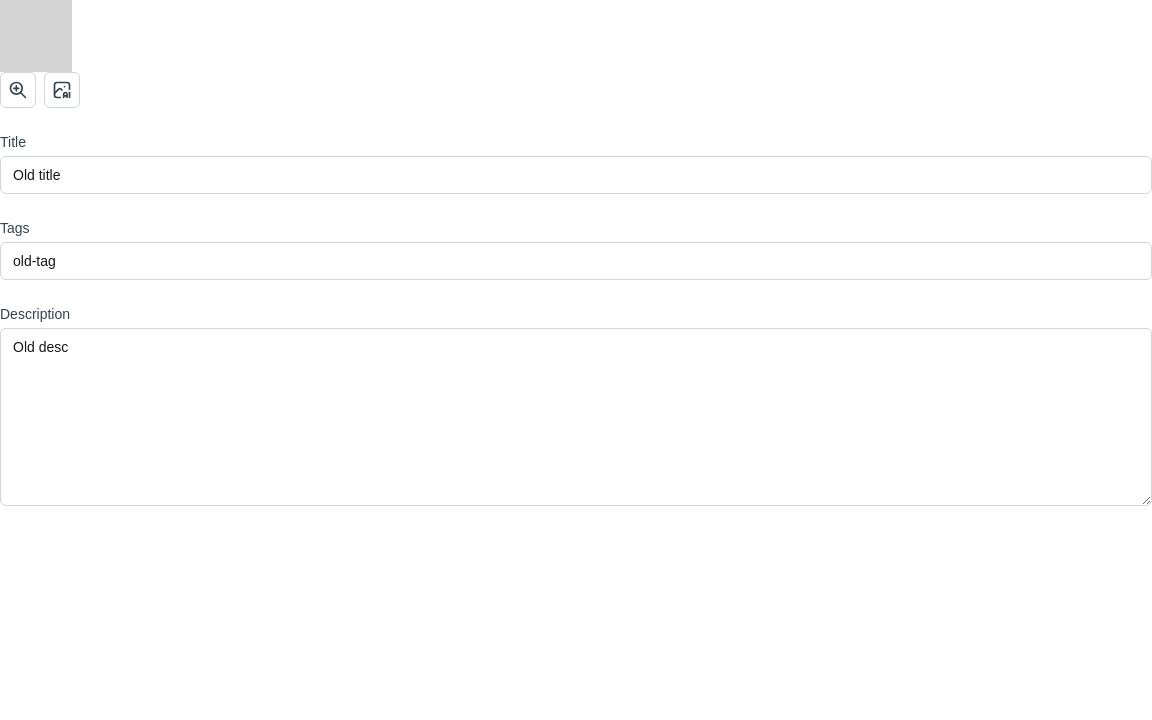
Scenario: ImageAiMetaSection › 识别成功但无 tags 时清空标签框
Click the button named "AI recognize": (62, 90) [44,72,80,108]
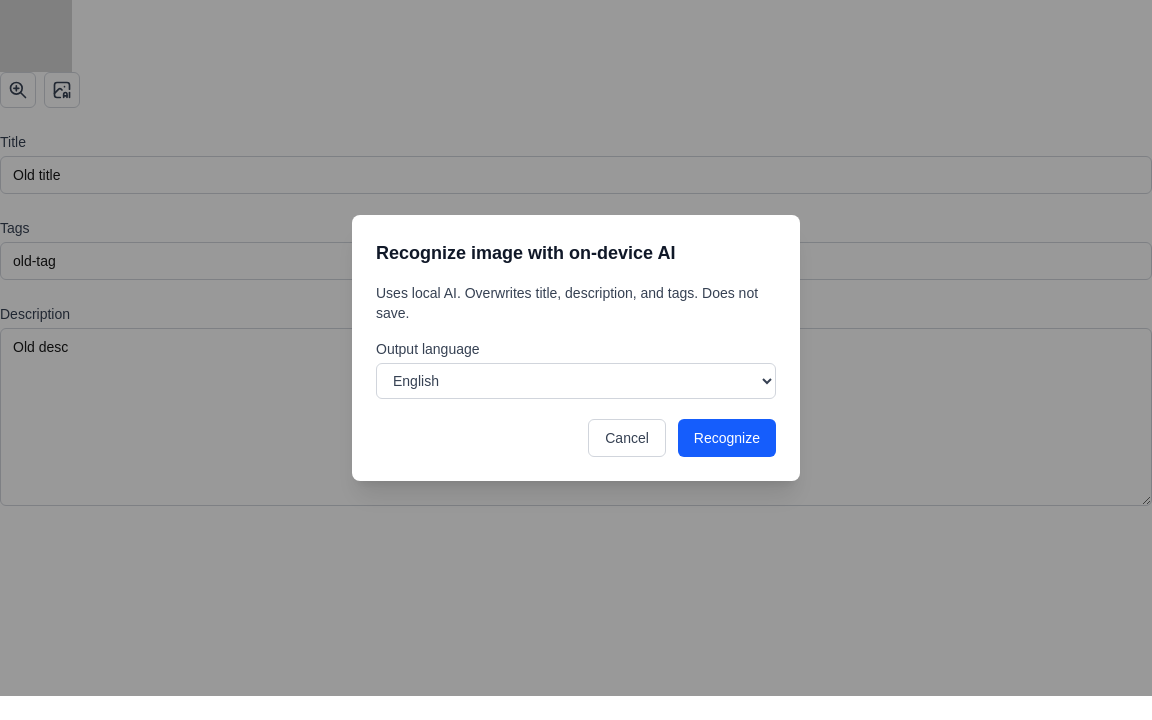
Click the button "Recognize": (727, 438) [678,419,776,457]
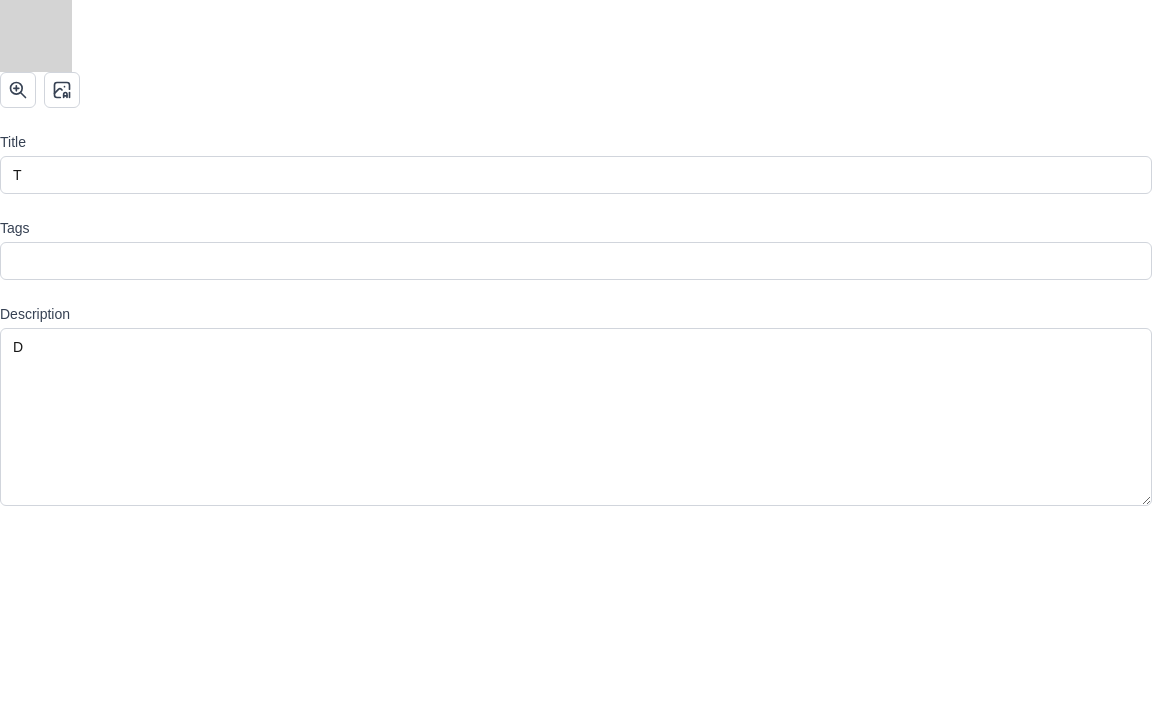
Expected: the field showing "T" below "Title" is shown, [0,156,1151,194]
Now the field named "tags" below "Tags" is empty, box [0,242,1151,280]
